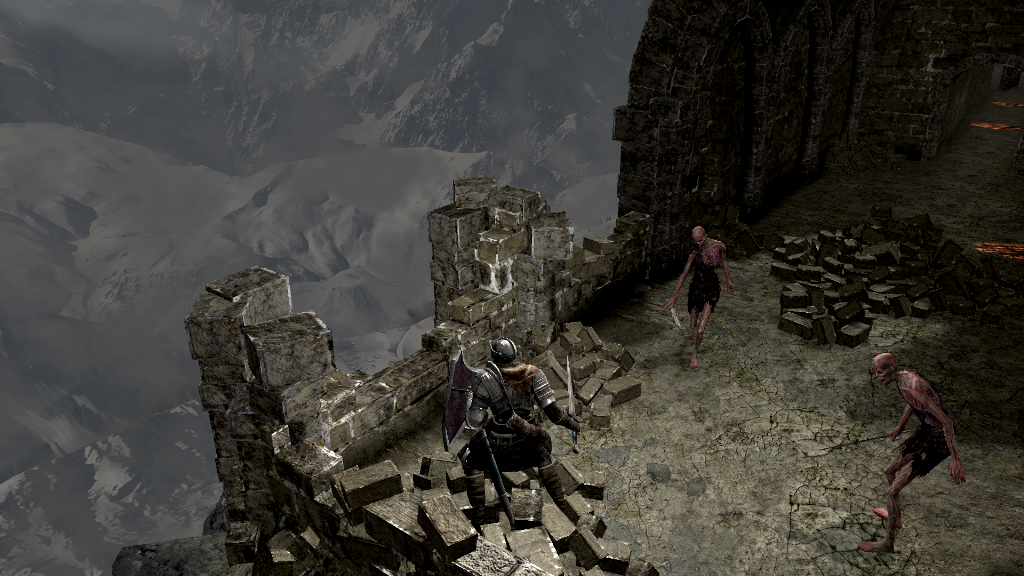hollow: (858, 351, 969, 554), (664, 225, 735, 368)
player: (443, 339, 585, 518)
